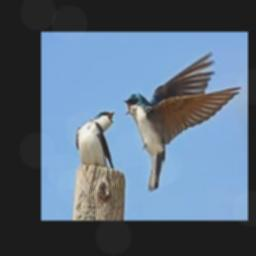Swallow: (124, 52, 241, 193), (75, 111, 114, 169)
